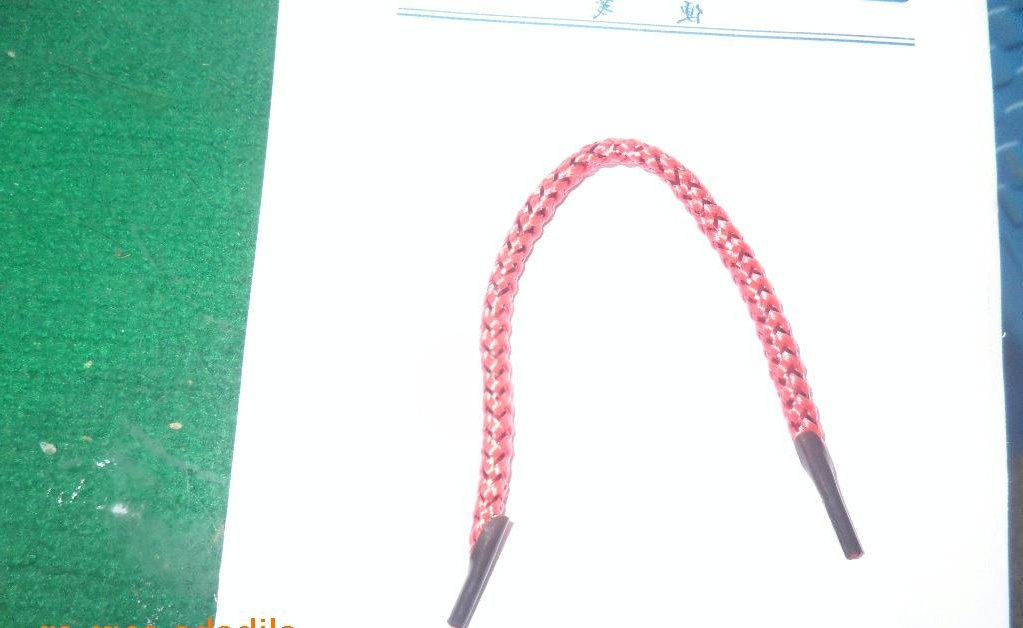9/可回收垃圾/绳子: (447, 136, 865, 628)
